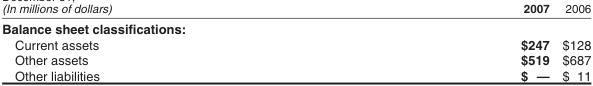table: (1, 1, 590, 82)
table column: (1, 1, 315, 82), (315, 1, 555, 82), (555, 1, 590, 82)
table column header: (1, 1, 590, 17)
table projected row header: (1, 17, 590, 36)
table row: (1, 17, 590, 36), (1, 1, 590, 17), (1, 51, 590, 67), (1, 36, 590, 51), (1, 67, 590, 82)
